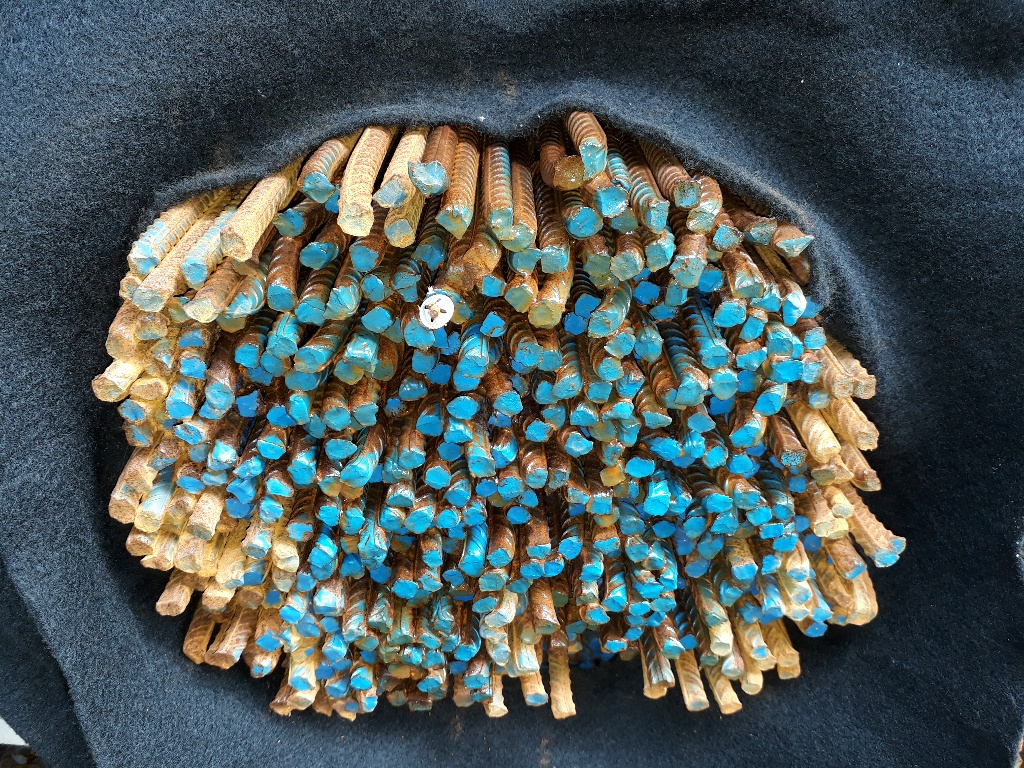dipstick: (407, 162, 446, 195), (592, 186, 629, 219), (576, 142, 607, 180), (105, 327, 138, 361), (670, 255, 704, 287), (144, 342, 176, 376), (554, 154, 585, 189), (567, 208, 604, 237), (774, 234, 814, 260), (220, 228, 250, 262), (302, 172, 334, 203), (91, 375, 127, 402), (424, 288, 461, 314), (463, 248, 495, 278), (745, 217, 778, 246), (435, 209, 466, 239), (207, 439, 237, 470), (374, 178, 406, 207), (273, 207, 305, 236), (338, 210, 373, 236), (405, 319, 435, 349), (362, 305, 393, 334), (360, 275, 393, 302), (711, 225, 745, 251), (182, 297, 216, 323), (686, 208, 715, 238), (205, 381, 235, 410), (502, 224, 533, 252), (412, 243, 443, 271), (322, 287, 348, 320), (259, 350, 292, 376), (132, 286, 165, 312), (782, 291, 807, 325), (615, 372, 645, 400), (235, 391, 266, 418), (604, 333, 636, 359), (614, 414, 639, 447), (292, 347, 325, 372), (283, 368, 320, 390), (386, 219, 415, 247), (349, 244, 378, 272), (296, 298, 325, 326), (610, 252, 637, 282), (505, 287, 535, 314), (232, 456, 267, 479), (488, 209, 513, 241), (267, 284, 295, 312), (511, 249, 541, 275), (393, 272, 418, 303), (343, 345, 374, 370), (298, 245, 329, 270), (713, 304, 745, 328), (647, 202, 671, 234), (128, 248, 160, 272), (324, 438, 357, 461), (134, 317, 167, 340), (673, 181, 701, 208), (711, 372, 739, 399), (271, 544, 299, 571), (179, 355, 207, 382), (108, 497, 136, 524), (322, 406, 351, 432), (334, 360, 364, 385), (446, 397, 480, 419), (700, 345, 731, 369), (443, 267, 474, 291), (265, 403, 296, 427), (635, 335, 663, 361), (565, 433, 593, 459), (204, 647, 237, 669), (359, 544, 388, 569), (286, 396, 311, 425), (287, 459, 316, 484), (257, 435, 286, 460), (730, 423, 760, 447), (525, 418, 553, 443), (535, 378, 563, 403), (675, 382, 704, 406), (493, 393, 523, 416), (457, 355, 487, 378), (475, 275, 506, 297), (731, 280, 765, 300), (339, 554, 365, 580), (611, 208, 638, 233), (479, 312, 506, 337), (214, 312, 247, 332), (552, 376, 583, 397), (266, 337, 297, 358), (131, 379, 162, 400), (172, 423, 203, 444), (226, 482, 257, 503), (776, 358, 802, 383), (589, 417, 615, 442), (528, 302, 554, 327), (312, 588, 337, 614), (167, 296, 192, 322), (516, 342, 543, 366), (706, 392, 734, 415), (597, 357, 625, 380), (753, 393, 782, 415), (646, 243, 668, 272), (736, 350, 766, 371), (625, 457, 655, 478), (172, 552, 202, 573), (234, 587, 264, 608), (540, 249, 565, 274), (738, 315, 764, 339), (234, 343, 260, 367), (181, 259, 207, 283), (831, 371, 854, 398), (633, 282, 660, 305), (383, 316, 406, 343), (399, 379, 427, 401), (687, 412, 716, 433), (265, 476, 294, 497), (175, 473, 204, 494), (767, 338, 792, 362), (600, 462, 625, 486), (404, 510, 429, 534), (224, 293, 249, 317), (245, 534, 270, 558), (167, 499, 192, 523), (215, 570, 245, 590), (575, 293, 601, 316), (537, 348, 563, 371), (498, 477, 524, 500), (470, 455, 496, 478), (353, 403, 379, 426), (133, 510, 159, 533), (586, 381, 613, 403), (124, 469, 151, 491), (255, 630, 282, 652), (734, 488, 762, 509), (443, 487, 471, 508), (365, 359, 393, 380), (682, 434, 706, 458), (588, 315, 612, 339), (427, 362, 452, 385), (278, 627, 301, 652), (698, 270, 724, 292), (594, 506, 620, 528), (306, 546, 332, 568), (247, 365, 273, 387), (651, 441, 681, 460), (584, 254, 611, 275), (454, 371, 481, 392), (710, 515, 738, 535), (649, 302, 677, 322), (665, 283, 689, 306), (601, 444, 625, 467), (302, 415, 326, 438), (259, 502, 283, 525), (444, 426, 473, 445), (285, 522, 314, 541), (166, 399, 195, 418), (818, 438, 840, 463), (417, 415, 442, 437), (803, 294, 823, 321), (772, 532, 799, 552), (642, 412, 672, 430), (571, 408, 598, 428), (147, 451, 177, 469), (201, 592, 231, 610), (593, 536, 621, 555), (307, 561, 335, 580), (231, 255, 259, 274), (857, 427, 880, 450), (704, 445, 727, 468), (296, 614, 319, 637), (737, 369, 759, 393), (459, 555, 483, 577), (315, 505, 339, 527), (250, 656, 274, 678), (750, 295, 781, 312), (728, 453, 753, 474), (747, 504, 772, 525), (339, 465, 364, 486), (117, 278, 142, 299), (199, 401, 228, 419), (432, 619, 459, 638), (223, 499, 250, 518), (139, 554, 171, 570), (602, 402, 632, 419), (177, 333, 207, 350), (777, 657, 800, 679), (565, 312, 587, 335), (552, 699, 576, 720), (542, 407, 566, 428), (384, 397, 408, 418), (125, 537, 153, 555), (182, 572, 210, 590), (279, 604, 304, 624), (183, 644, 208, 664), (650, 669, 676, 688), (186, 522, 212, 541), (780, 449, 807, 467), (731, 562, 758, 580), (706, 494, 733, 512), (437, 442, 464, 460), (804, 327, 826, 349), (855, 375, 876, 398), (721, 656, 744, 677), (412, 352, 435, 373), (318, 475, 341, 496), (312, 695, 335, 716), (487, 548, 511, 568), (342, 514, 366, 534), (644, 496, 669, 515), (587, 495, 612, 514), (874, 549, 900, 567), (613, 482, 639, 500), (601, 595, 627, 613), (478, 574, 504, 592), (392, 580, 418, 598), (400, 450, 426, 468), (353, 633, 379, 651), (755, 650, 777, 671), (665, 389, 686, 411), (683, 516, 705, 537), (722, 585, 743, 607), (371, 563, 392, 585), (241, 566, 263, 587), (390, 534, 413, 554), (391, 460, 414, 480), (260, 588, 283, 608), (620, 518, 645, 536), (588, 273, 616, 289), (802, 361, 822, 383), (790, 585, 812, 605), (520, 625, 542, 645), (450, 304, 472, 324), (340, 534, 360, 556), (812, 467, 835, 486), (741, 675, 764, 694), (625, 543, 648, 562), (579, 564, 602, 583), (516, 656, 539, 675), (511, 373, 530, 396), (434, 509, 457, 528), (336, 701, 359, 720), (587, 607, 611, 625), (507, 506, 531, 524), (510, 357, 534, 375), (453, 643, 477, 661), (339, 482, 363, 500), (155, 600, 182, 616), (520, 562, 545, 579), (386, 662, 411, 679), (368, 615, 389, 635), (197, 556, 217, 577), (808, 389, 830, 408), (835, 462, 854, 484), (697, 540, 719, 559), (567, 486, 589, 505), (558, 538, 577, 560), (541, 558, 563, 577), (476, 478, 498, 497), (492, 446, 511, 468), (442, 333, 461, 355), (386, 689, 408, 708), (359, 693, 381, 712), (485, 610, 511, 626), (771, 502, 794, 520), (652, 521, 675, 539), (505, 577, 532, 592), (535, 618, 560, 634), (296, 570, 316, 590), (267, 700, 292, 716), (201, 469, 226, 485), (788, 473, 807, 494), (829, 518, 850, 537), (548, 468, 567, 489), (422, 549, 443, 568), (463, 508, 485, 526), (287, 695, 315, 709), (805, 620, 828, 637), (442, 569, 465, 586), (489, 410, 512, 427), (400, 648, 423, 665), (759, 522, 783, 538), (761, 555, 780, 575), (669, 496, 688, 516), (274, 572, 293, 592), (441, 537, 462, 555), (479, 622, 504, 637), (802, 534, 824, 551), (735, 520, 757, 537), (432, 327, 449, 349), (350, 674, 372, 691), (379, 513, 401, 530), (685, 562, 708, 578), (525, 691, 548, 707), (473, 596, 496, 612), (420, 575, 443, 591), (421, 652, 444, 668), (321, 647, 344, 663), (649, 598, 677, 611), (526, 544, 552, 558), (388, 632, 414, 646), (862, 471, 881, 490), (447, 521, 466, 540), (846, 610, 870, 625), (493, 647, 513, 665), (319, 615, 340, 632), (832, 502, 854, 518), (470, 687, 492, 703), (671, 454, 696, 468), (416, 677, 441, 691), (628, 601, 651, 616), (641, 583, 664, 598), (486, 703, 509, 718), (452, 692, 475, 707), (551, 588, 569, 607), (620, 645, 640, 662), (518, 490, 538, 507), (791, 333, 804, 359), (326, 187, 339, 213), (289, 677, 315, 690), (813, 607, 834, 623), (380, 648, 401, 664), (419, 634, 441, 649), (343, 627, 365, 642), (327, 657, 352, 670), (831, 608, 849, 626), (743, 606, 761, 624), (386, 494, 413, 506), (794, 513, 811, 532), (813, 520, 832, 537), (644, 684, 667, 698), (604, 638, 627, 652), (463, 674, 486, 688), (703, 245, 723, 261), (831, 592, 851, 608), (382, 465, 398, 485), (843, 562, 864, 577), (746, 440, 767, 455), (710, 641, 731, 656), (688, 697, 709, 712), (663, 645, 684, 660), (705, 612, 727, 626), (642, 557, 664, 571), (648, 610, 666, 627), (439, 636, 458, 652), (450, 589, 473, 602), (360, 648, 377, 665), (676, 539, 694, 555), (659, 575, 675, 593), (721, 702, 743, 715), (515, 593, 528, 615), (410, 699, 433, 711), (891, 536, 907, 553), (788, 567, 806, 582), (749, 644, 767, 659), (746, 459, 760, 478), (427, 687, 446, 701), (314, 667, 336, 679), (636, 504, 652, 520), (415, 588, 431, 604), (792, 607, 810, 621), (624, 626, 642, 640), (566, 620, 585, 633), (448, 661, 468, 673), (679, 635, 697, 648), (568, 504, 586, 517), (625, 614, 646, 625), (369, 464, 381, 483), (325, 685, 344, 697), (763, 606, 782, 617), (634, 267, 650, 280), (701, 654, 718, 666), (589, 636, 602, 650), (405, 599, 425, 608), (762, 614, 777, 624), (676, 575, 686, 590), (565, 632, 577, 644), (601, 651, 615, 660), (395, 526, 408, 534)
